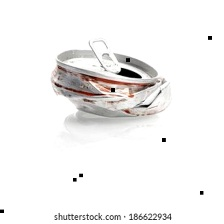can: (47, 34, 175, 118)
